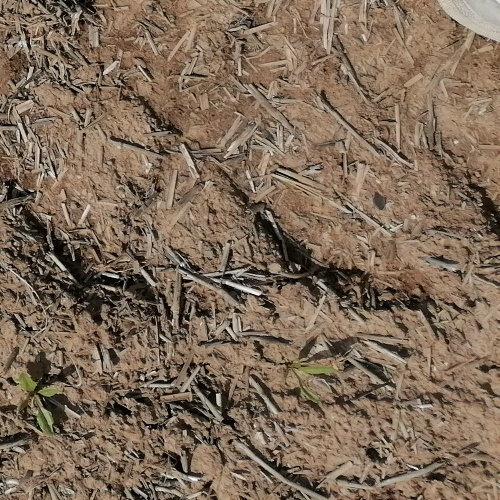beet: (12, 370, 58, 435), (277, 356, 333, 407)
